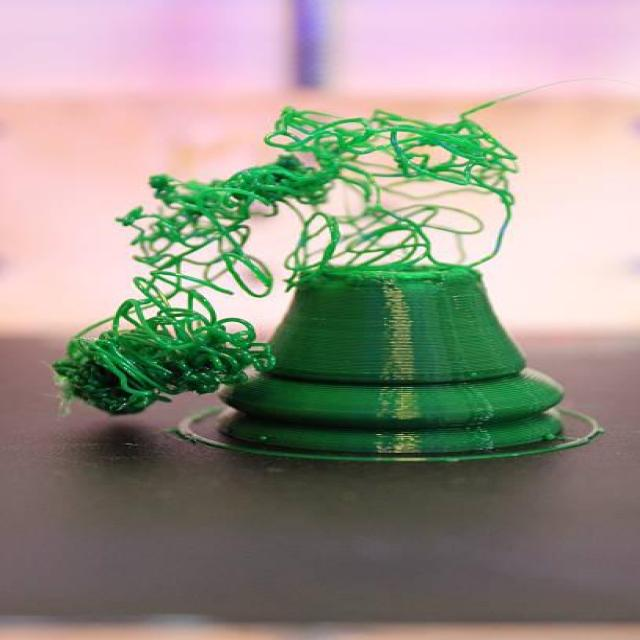Spaghetti: (63, 99, 460, 392)
